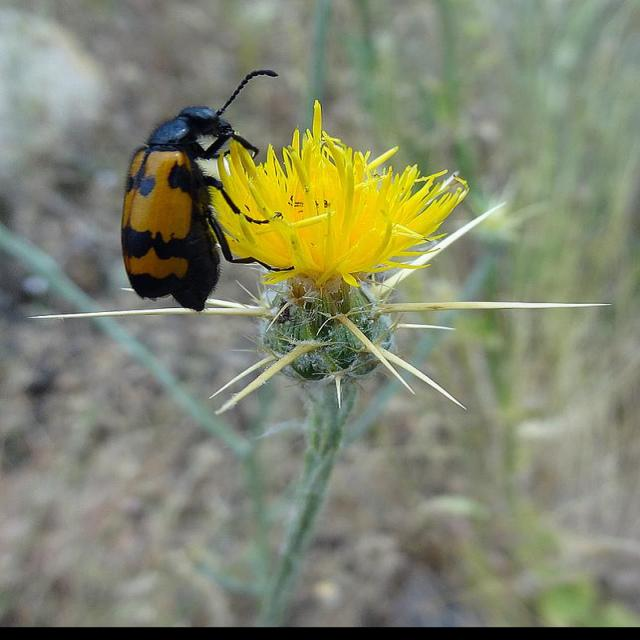BlisterBeetle-Adult-: (119, 67, 298, 311)
